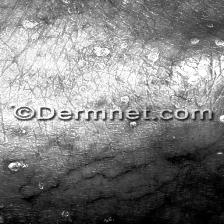Benign Marking or Mole: (187, 20, 224, 85), (144, 48, 180, 84), (0, 157, 34, 175), (0, 213, 54, 224), (16, 15, 48, 33), (89, 45, 115, 58), (87, 217, 127, 224), (116, 95, 135, 104)
